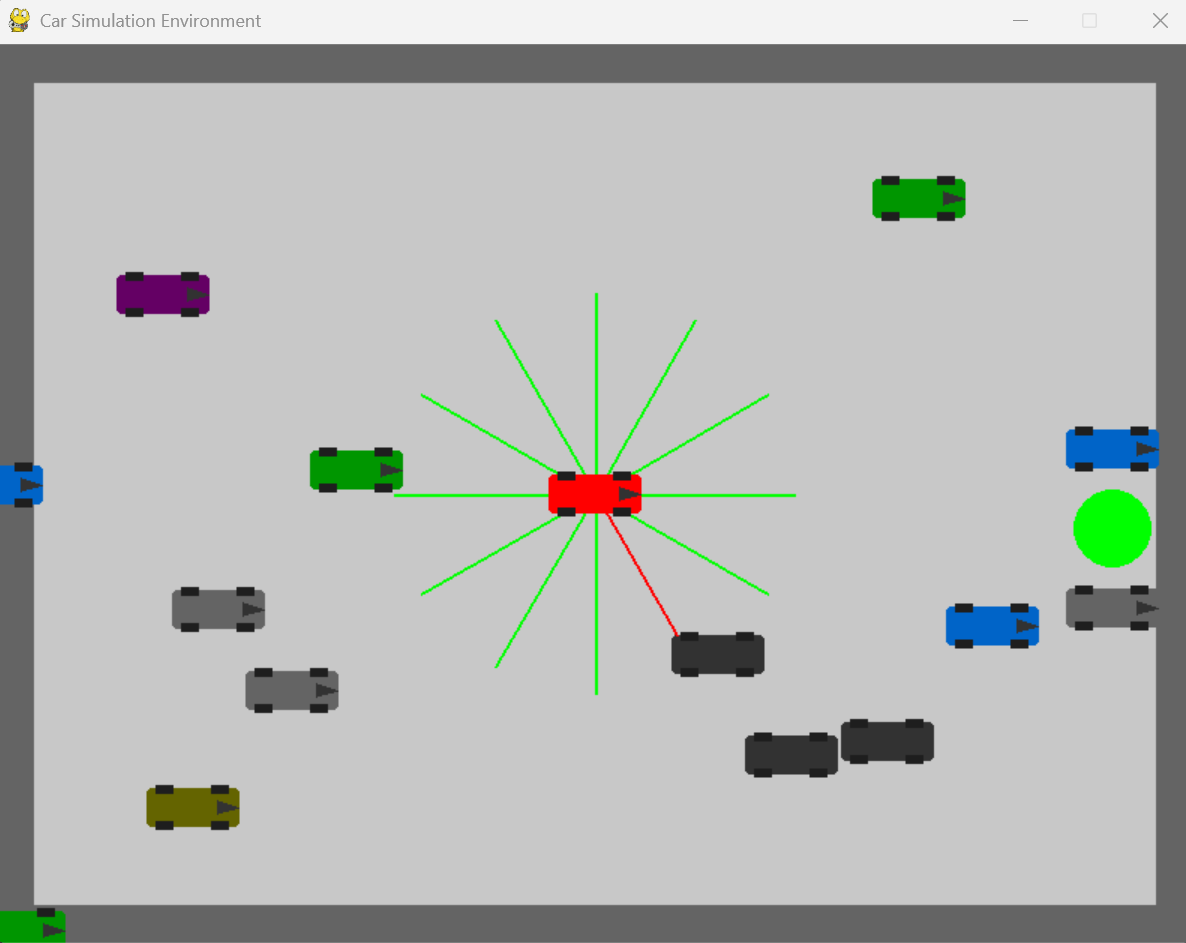Controlled Car: (526, 452, 656, 525)
Goal: (1059, 484, 1149, 569)
Obstacle Car: (103, 259, 226, 337), (934, 589, 1046, 660), (864, 167, 975, 237), (138, 773, 251, 840), (1056, 412, 1165, 479), (305, 431, 412, 498), (734, 723, 846, 786), (235, 655, 351, 715), (835, 709, 944, 771), (1057, 579, 1161, 643), (164, 579, 267, 638), (669, 626, 767, 680), (3, 904, 78, 940), (1, 451, 43, 512)
